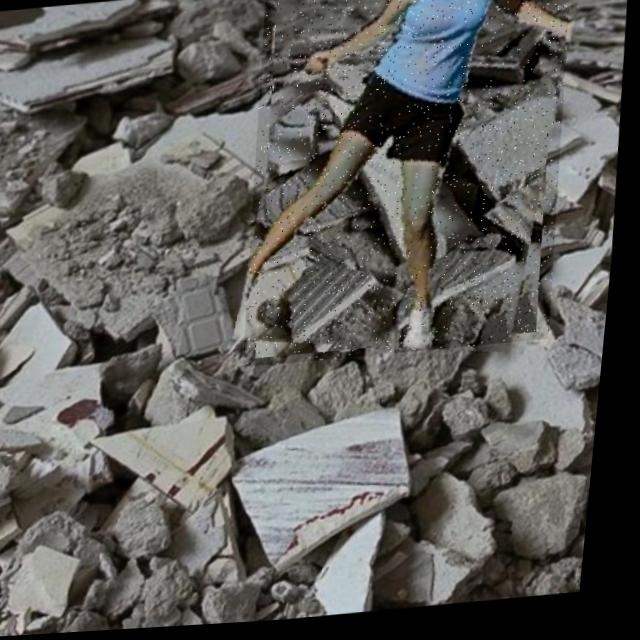Person in Rubble: (237, 0, 584, 371)
